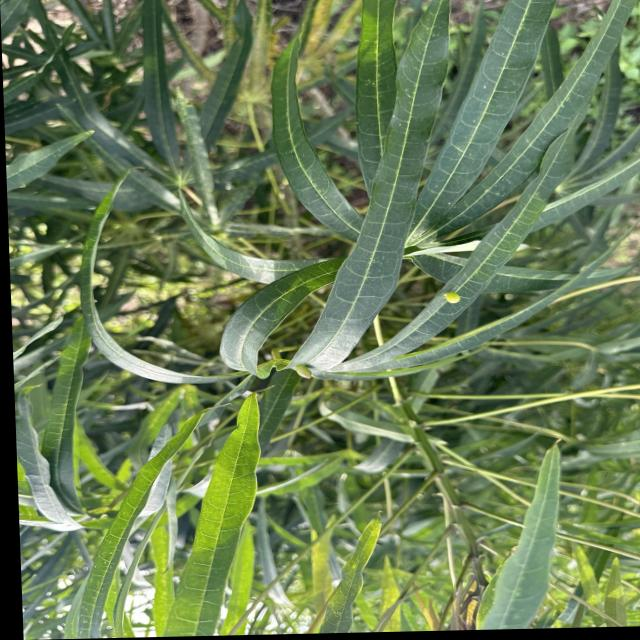Mosca: (278, 352, 321, 397), (428, 279, 468, 309)
